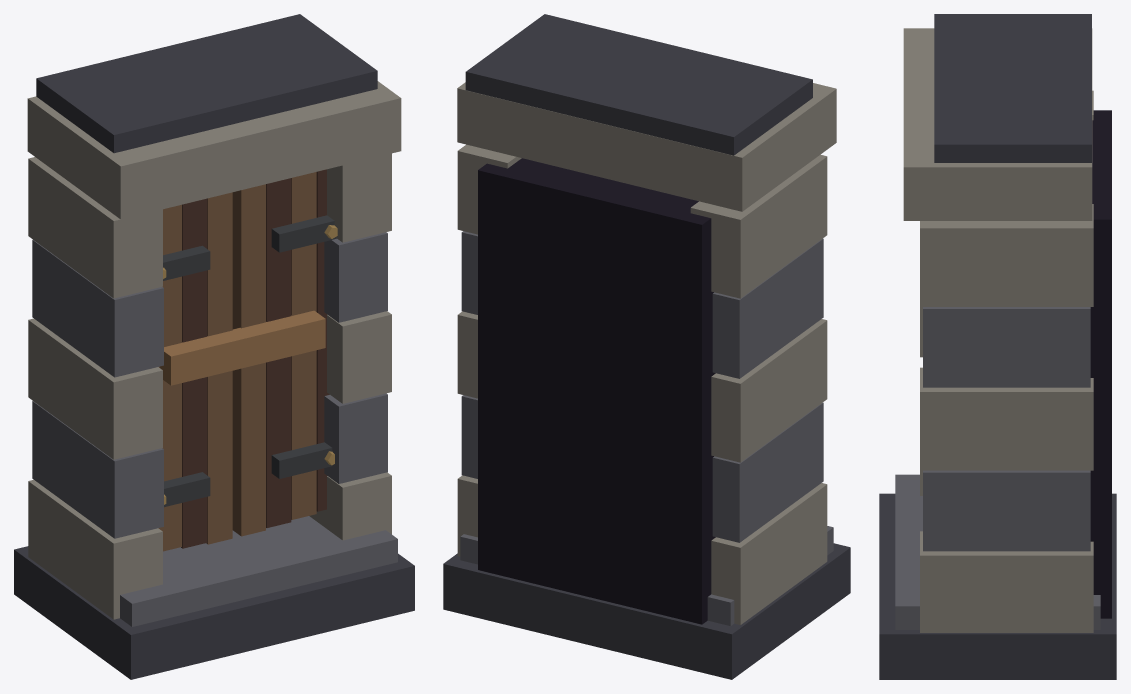
File: cellar-shutters-barred.glb
The picture shows the model from 3 angles, left to right: view 1: azimuth 30°, elevation 25°; view 2: azimuth 150°, elevation 25°; view 3: azimuth 270°, elevation 25°; orthographic projection.
Parts seen in each view (by area): view 1: Cellar shutters · barred; view 2: Cellar shutters · barred; view 3: Cellar shutters · barred.
Part boxes in pixels (x1,y1,x2,y2): Cellar shutters · barred: (14, 14, 414, 679); Cellar shutters · barred: (443, 14, 850, 679); Cellar shutters · barred: (879, 14, 1116, 679).
Bounding box in the file's own units: 0.94 × 1.65 × 0.67.
